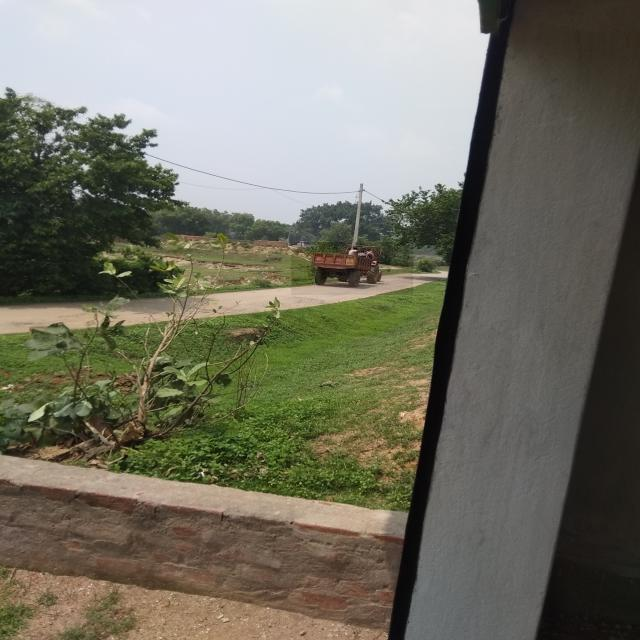Tractot: (292, 242, 414, 295)
